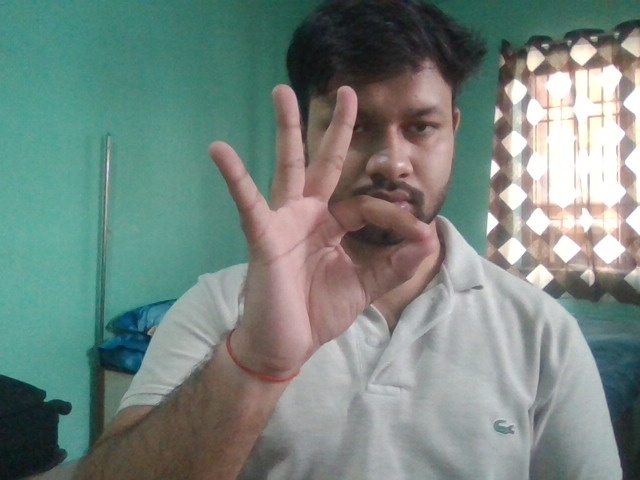Ok: (206, 83, 442, 371)
